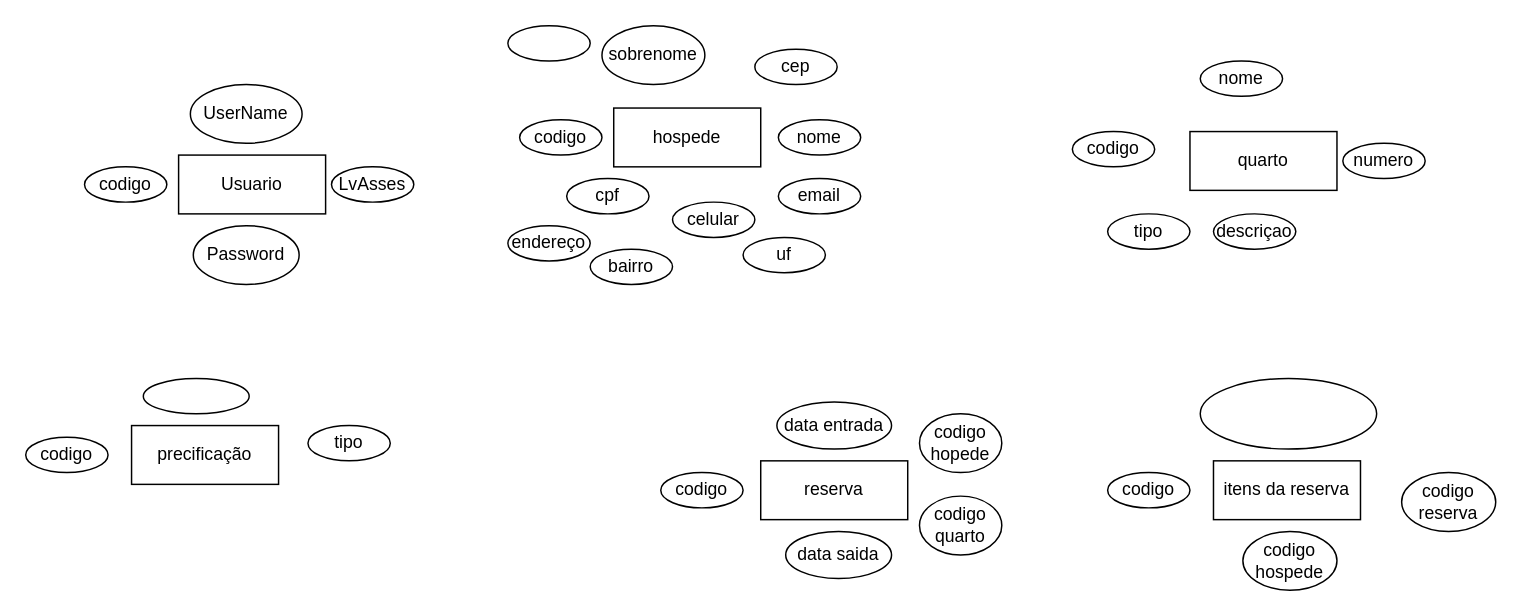
Image size: 1521x616. Some labels were removed from this diagram. The centre of each missing label's shape, as x and y in pixels:
"cidade" goes at (x=548, y=42).
"codigo do hospede (acompanhante)" goes at (x=1288, y=413).
"valor diaria" goes at (x=195, y=395).
